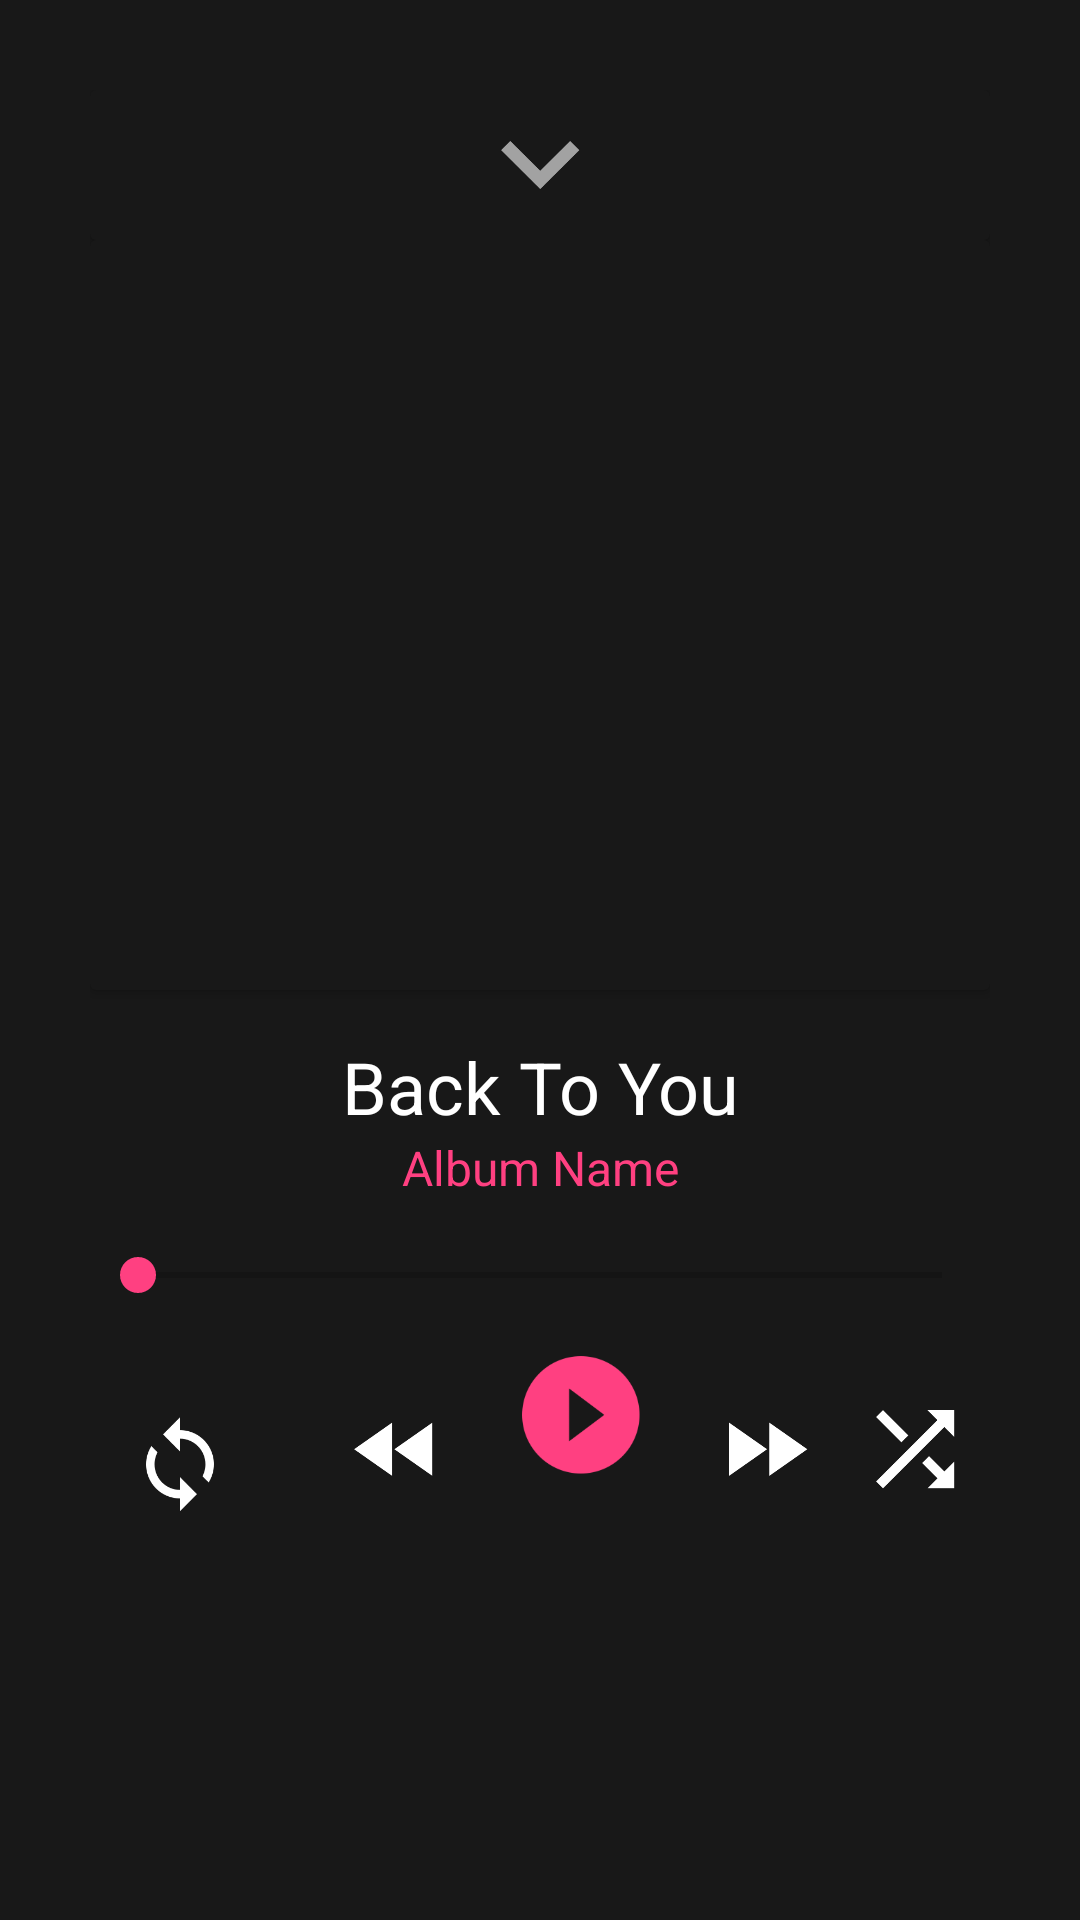

Icons on this 1080 × 1920 Android screen, each with the point to tap as (x=x, y=y):
backbtn: (x=393, y=1449)
downbtn: (x=540, y=165)
playbtn: (x=581, y=1415)
repeatbtn: (x=180, y=1464)
shufflebtn: (x=915, y=1449)
